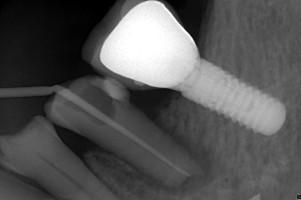Furcation Involvement: (136, 131, 228, 197)
